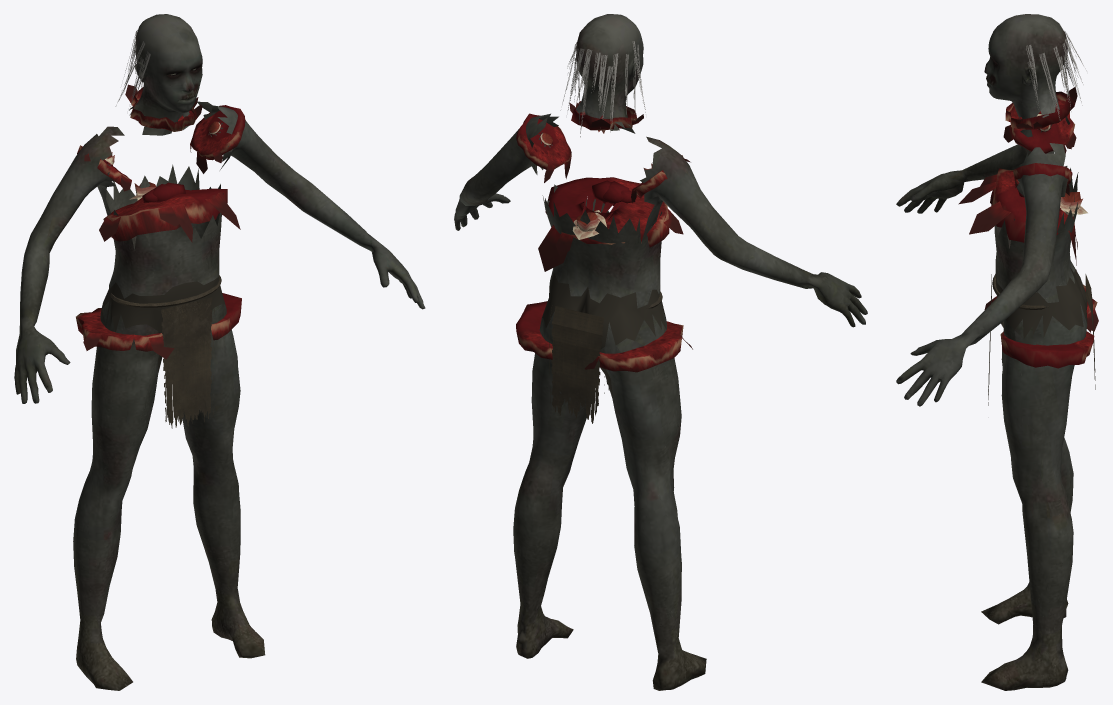
File: grave_old_man_severed.glb
3 views of the same model, side by side, from view 1: azimuth 30°, elevation 25°; view 2: azimuth 150°, elevation 25°; view 3: azimuth 270°, elevation 25° (orthographic).
Parts seen in each view (by area): view 1: grave_old_man_sev_legs, grave_old_man_sev_leg_r, grave_old_man_sev_leg_l, grave_old_man_sev_arm_r, grave_old_man_sev_arm_l, grave_old_man_sev_head; view 2: grave_old_man_sev_legs, grave_old_man_sev_leg_r, grave_old_man_sev_leg_l, grave_old_man_sev_arm_r, grave_old_man_sev_head, grave_old_man_sev_arm_l; view 3: grave_old_man_sev_leg_l, grave_old_man_sev_legs, grave_old_man_sev_arm_l, grave_old_man_sev_head, grave_old_man_sev_arm_r, grave_old_man_sev_leg_r.
Boxes of the visible parts, x1,y1,x2,y2 form: grave_old_man_sev_legs: (99,164,240,428); grave_old_man_sev_leg_r: (73,303,174,690); grave_old_man_sev_leg_l: (182,293,265,658); grave_old_man_sev_arm_r: (14,126,131,403); grave_old_man_sev_arm_l: (190,101,425,309); grave_old_man_sev_head: (115,14,202,135); grave_old_man_sev_legs: (538,177,683,423); grave_old_man_sev_leg_r: (584,312,706,690); grave_old_man_sev_leg_l: (513,301,591,658); grave_old_man_sev_arm_r: (631,136,867,327); grave_old_man_sev_head: (560,14,645,137); grave_old_man_sev_arm_l: (454,113,571,230); grave_old_man_sev_leg_l: (981,315,1094,690); grave_old_man_sev_legs: (958,168,1095,405); grave_old_man_sev_arm_l: (896,143,1072,406); grave_old_man_sev_head: (984,14,1086,137); grave_old_man_sev_arm_r: (896,111,1076,213); grave_old_man_sev_leg_r: (981,284,1098,624).
Size of the model in its own units: 1.16 by 1.78 by 0.5139.
6 materials, 4 textured.
